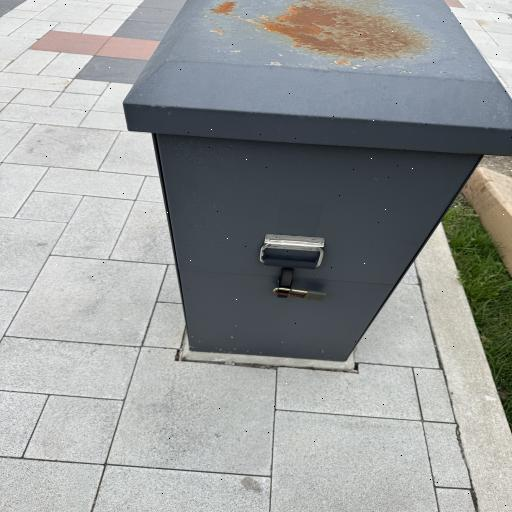Electrical Box: (121, 0, 512, 362)
